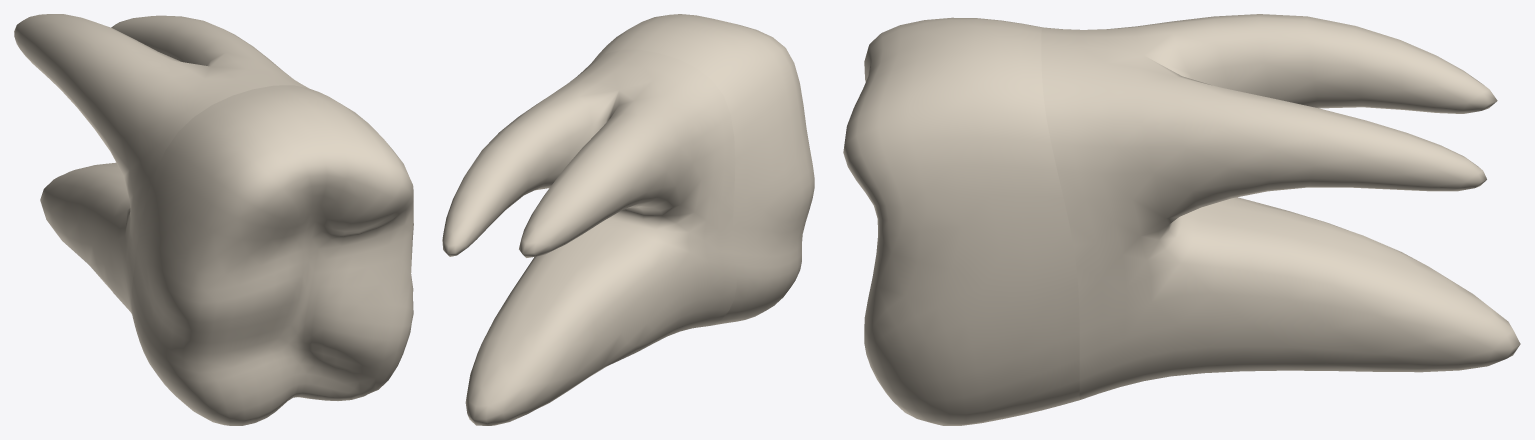
File: tooth.obj
3 views of the same model, side by side, from view 1: azimuth 30°, elevation 25°; view 2: azimuth 150°, elevation 25°; view 3: azimuth 270°, elevation 25° (orthographic). The views are drawn at different scales.
Parts seen in each view (by area): view 1: Tooth0; view 2: Tooth0; view 3: Tooth0.
Boxes of the visible parts, x1,y1,x2,y2 form: Tooth0: (14, 14, 413, 425); Tooth0: (442, 14, 814, 425); Tooth0: (843, 14, 1520, 425).
Bounding box in the file's own units: 232 × 294 × 502.
